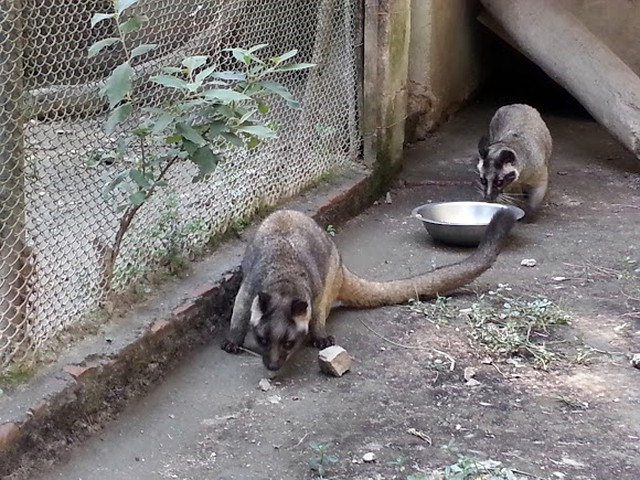civet: (221, 206, 518, 369), (475, 102, 562, 207)
